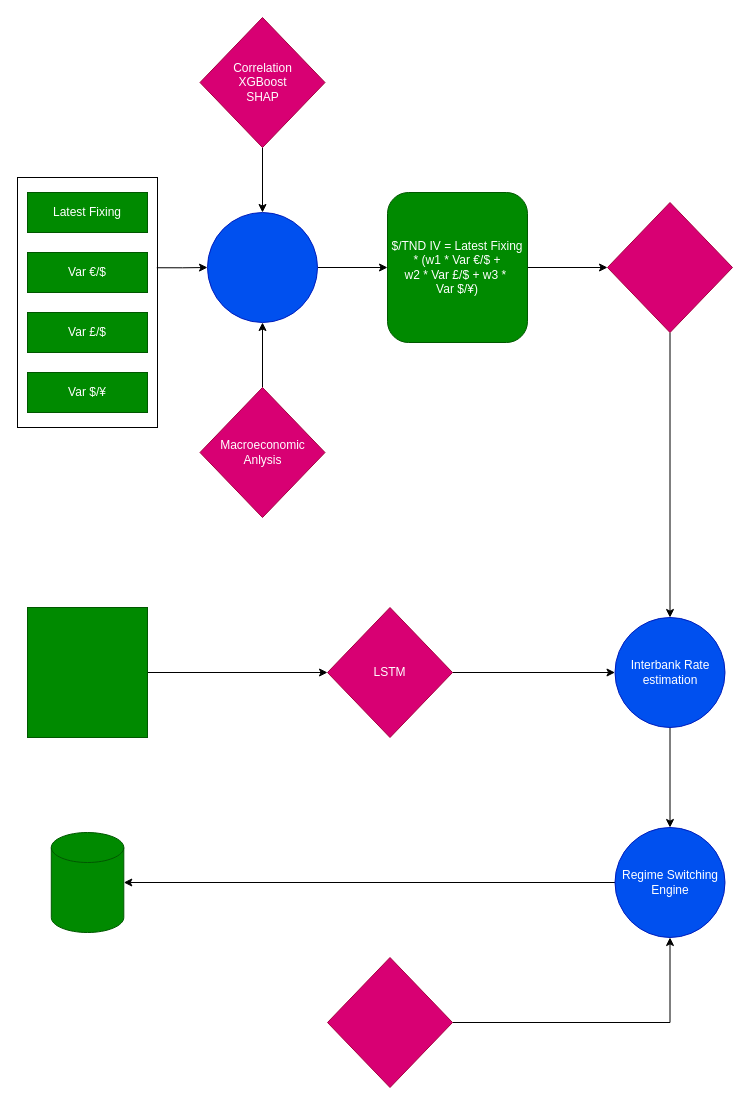
Some shapes in this 750 by 1105 pixel diagram are drawn without their labels. Here are the shapes that lost their labels. From the top down, the centre of each, then its label:
the point at 262,267: Basket Weight Estimation
the point at 669,267: Jump-Diffusion OU Process
the point at 87,672: Rolling window of last 30 IB Rates
the point at 87,882: Result.xlsx
the point at 389,1022: Check Month of year
